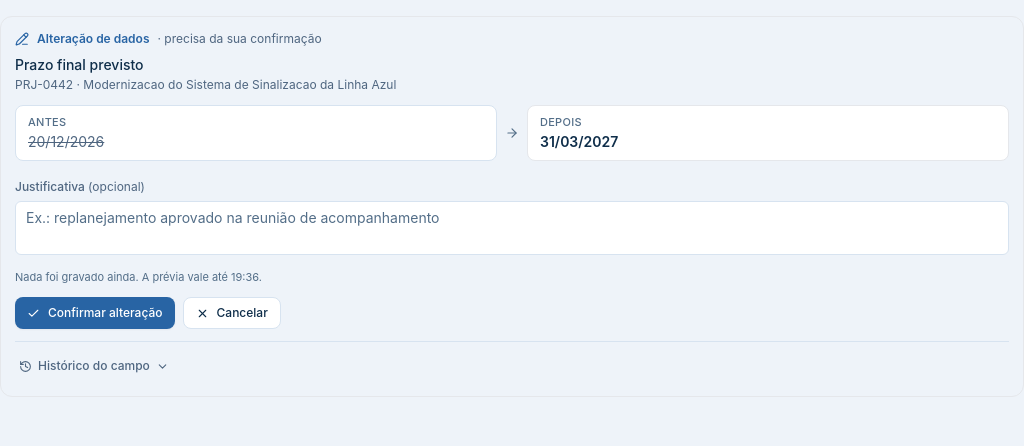
Test: DataChangeCard › estado de erro transitório: mantém a prévia e permite tentar de novo
Click the button "Confirmar alteração" at (95, 313), box [15, 297, 174, 329]
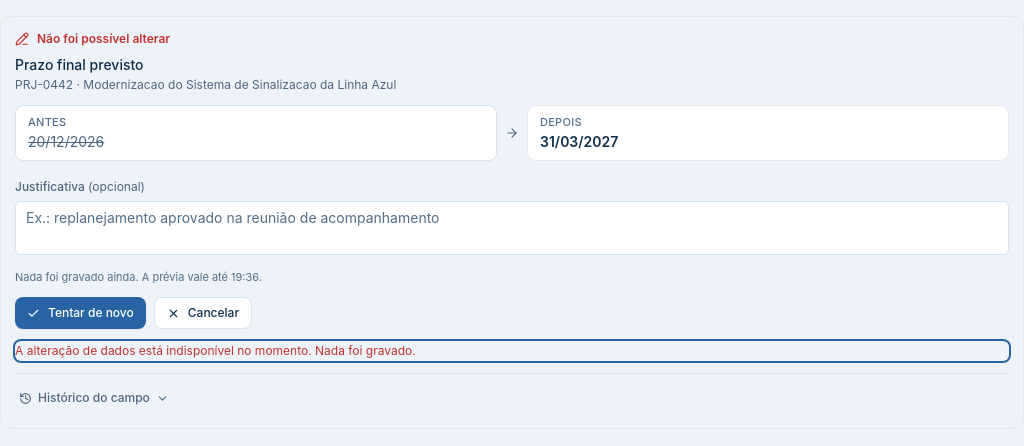
Check: the button "Tentar de novo" is enabled, box [15, 297, 146, 329]
Check: the message shows "indisponível no momento", box [15, 343, 416, 358]
